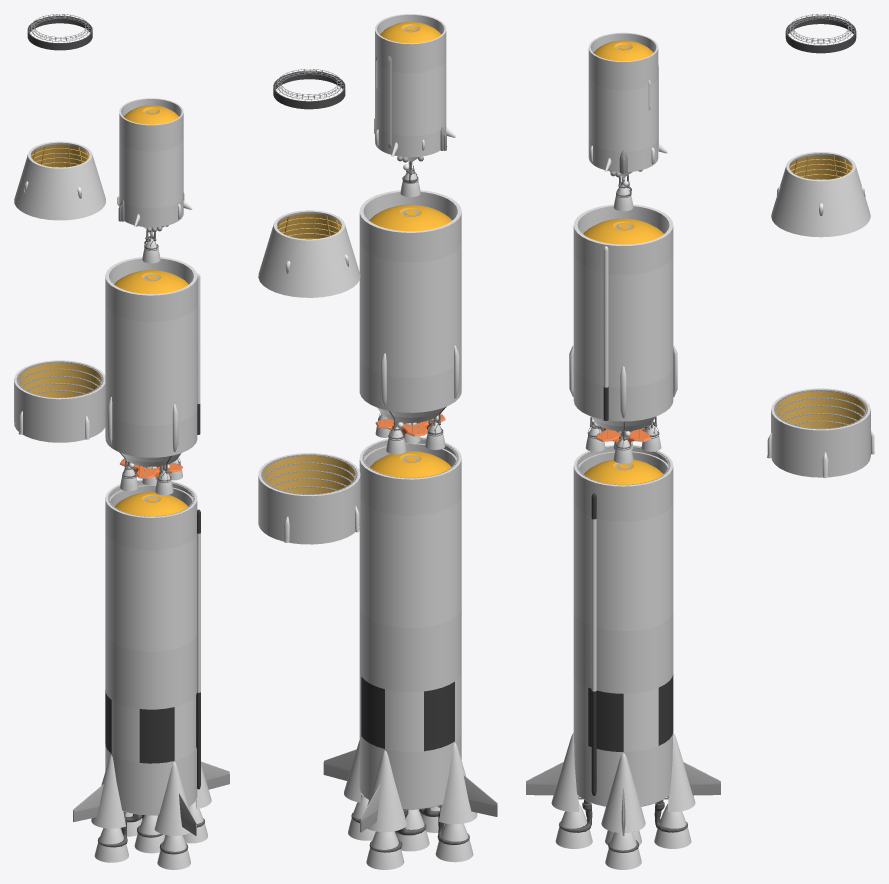
Rendered from Saturn_V.fbx.
3 renders of one model, left to right at view 1: azimuth 30°, elevation 25°; view 2: azimuth 150°, elevation 25°; view 3: azimuth 270°, elevation 25°, orthographic. The views are drawn at different scales.
Visible parts, largest first — view 1: S-IC, S-II, S-IVB, Interstage, S-II_Top, Instrument_Unit, F1.004, F1.003, F1, F1.001, J2.005; view 2: S-IC, S-II, S-IVB, Interstage, S-II_Top, Instrument_Unit, F1.004, F1.002, F1, F1.001, J2.003, J2.002 (+1 smaller); view 3: S-IC, S-II, S-IVB, Interstage, S-II_Top, Instrument_Unit, F1.003, F1.002, F1.001.
Part boxes in pixels (x1=…): S-IC: x1=73, y1=479, x2=229, y2=835; S-II: x1=105, y1=257, x2=200, y2=480; S-IVB: x1=117, y1=98, x2=192, y2=234; Interstage: x1=14, y1=360, x2=105, y2=442; S-II_Top: x1=14, y1=141, x2=105, y2=220; Instrument_Unit: x1=27, y1=14, x2=92, y2=50; F1.004: x1=94, y1=811, x2=128, y2=862; F1.003: x1=157, y1=835, x2=190, y2=869; F1: x1=134, y1=815, x2=165, y2=853; F1.001: x1=183, y1=801, x2=207, y2=843; J2.005: x1=142, y1=230, x2=160, y2=263; S-IC: x1=323, y1=437, x2=497, y2=832; S-II: x1=359, y1=190, x2=461, y2=437; S-IVB: x1=374, y1=14, x2=456, y2=164; Interstage: x1=258, y1=453, x2=360, y2=544; S-II_Top: x1=258, y1=210, x2=360, y2=297; Instrument_Unit: x1=273, y1=69, x2=345, y2=109; F1.004: x1=435, y1=805, x2=473, y2=862; F1.002: x1=366, y1=831, x2=404, y2=869; F1: x1=396, y1=809, x2=429, y2=851; F1.001: x1=348, y1=794, x2=375, y2=840; J2.003: x1=425, y1=415, x2=445, y2=449; J2.002: x1=386, y1=420, x2=406, y2=454; S-IC: x1=526, y1=445, x2=720, y2=835; S-II: x1=569, y1=204, x2=677, y2=444; S-IVB: x1=588, y1=32, x2=667, y2=179; Interstage: x1=767, y1=388, x2=874, y2=478; S-II_Top: x1=771, y1=152, x2=870, y2=237; Instrument_Unit: x1=785, y1=14, x2=856, y2=53; F1.003: x1=555, y1=796, x2=592, y2=848; F1.002: x1=654, y1=796, x2=691, y2=848; F1.001: x1=605, y1=832, x2=641, y2=869.
Size of the model in its own units: 1976 by 9099 by 3534.
